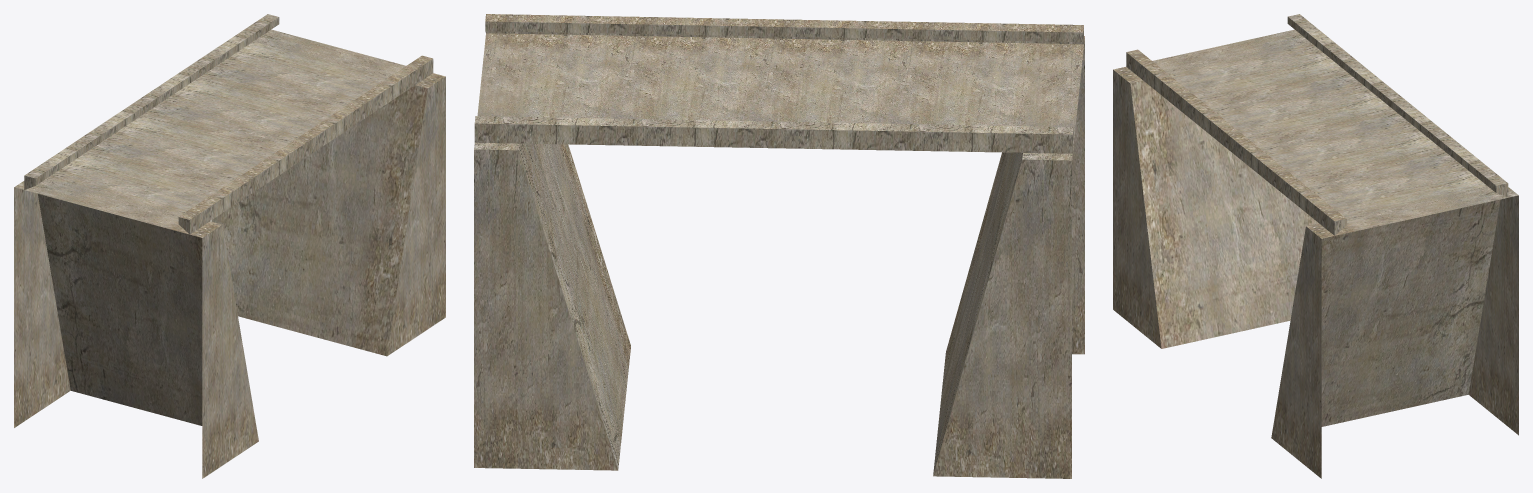
File: concretearch1.obj
3 renders of one model, left to right at view 1: azimuth 30°, elevation 25°; view 2: azimuth 150°, elevation 25°; view 3: azimuth 270°, elevation 25°, orthographic. The views are drawn at different scales.
Visible parts, largest first — view 1: concretearch1; view 2: concretearch1; view 3: concretearch1.
Boxes of the visible parts, x1,y1,x2,y2 form: concretearch1: (14, 14, 445, 478); concretearch1: (474, 14, 1084, 478); concretearch1: (1113, 14, 1518, 478).
Bounding box in the file's own units: 35.56 × 19.86 × 28.68.
